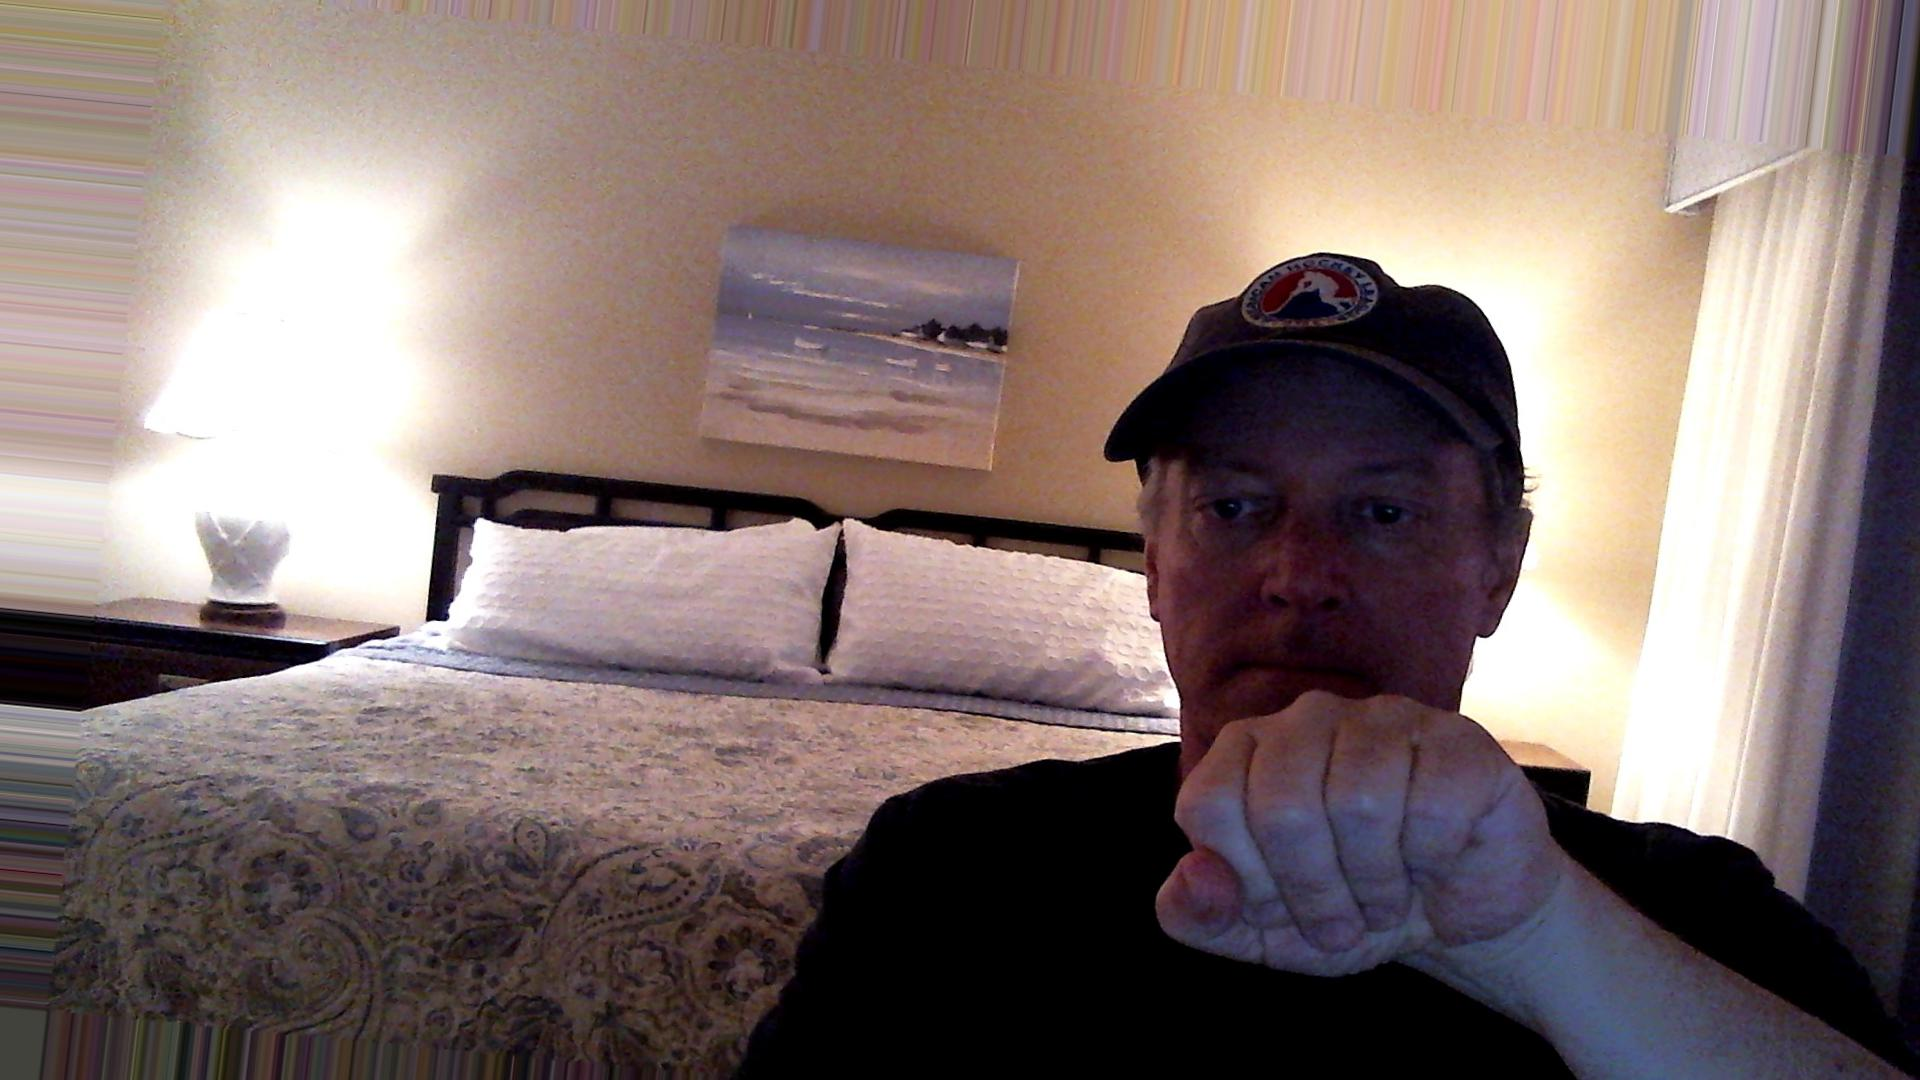Yes: (1137, 658, 1601, 1002)
